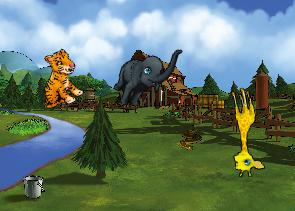elephant: (109, 34, 183, 117)
giraffe: (219, 85, 266, 179)
tiger: (26, 46, 90, 114)
